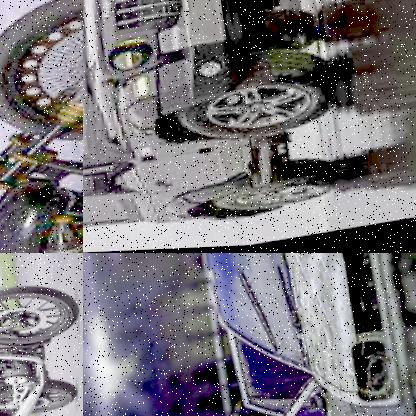bike: (0, 274, 83, 416)
car: (83, 0, 346, 253), (175, 253, 416, 416)
